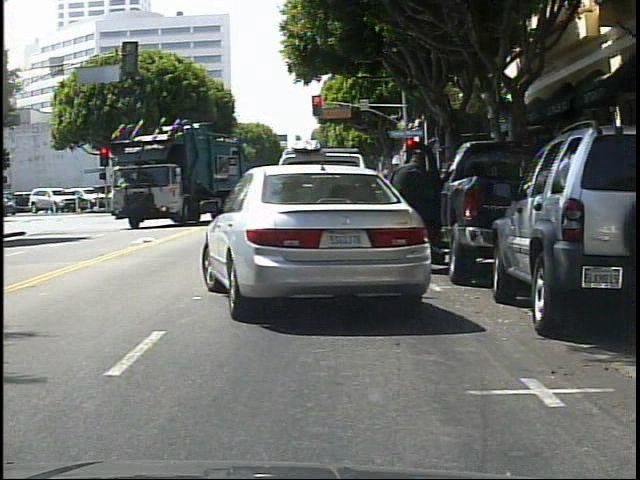person: (389, 146, 449, 284)
